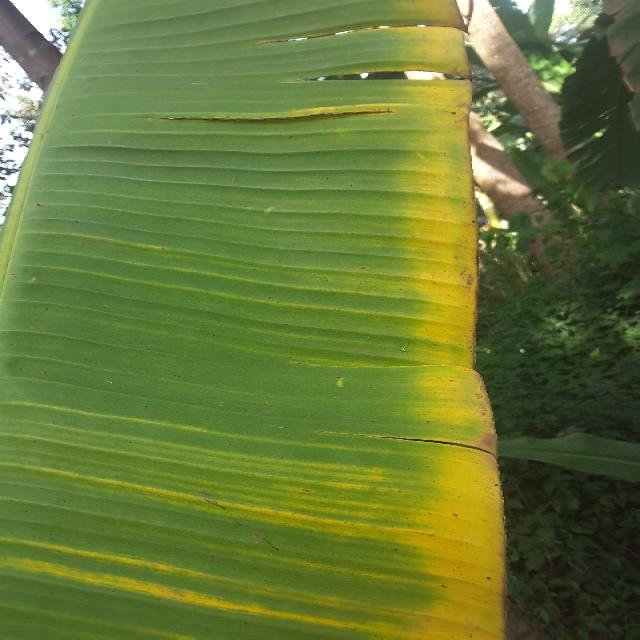Cordana: (16, 0, 528, 640)
